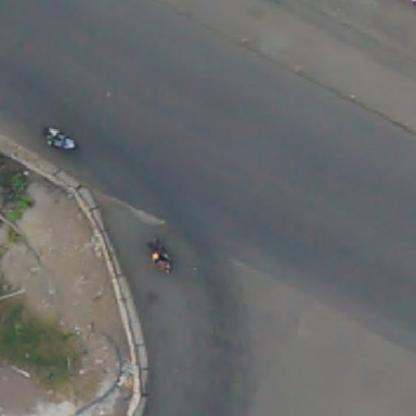Motorcycle: (142, 238, 182, 274), (41, 126, 78, 152)
